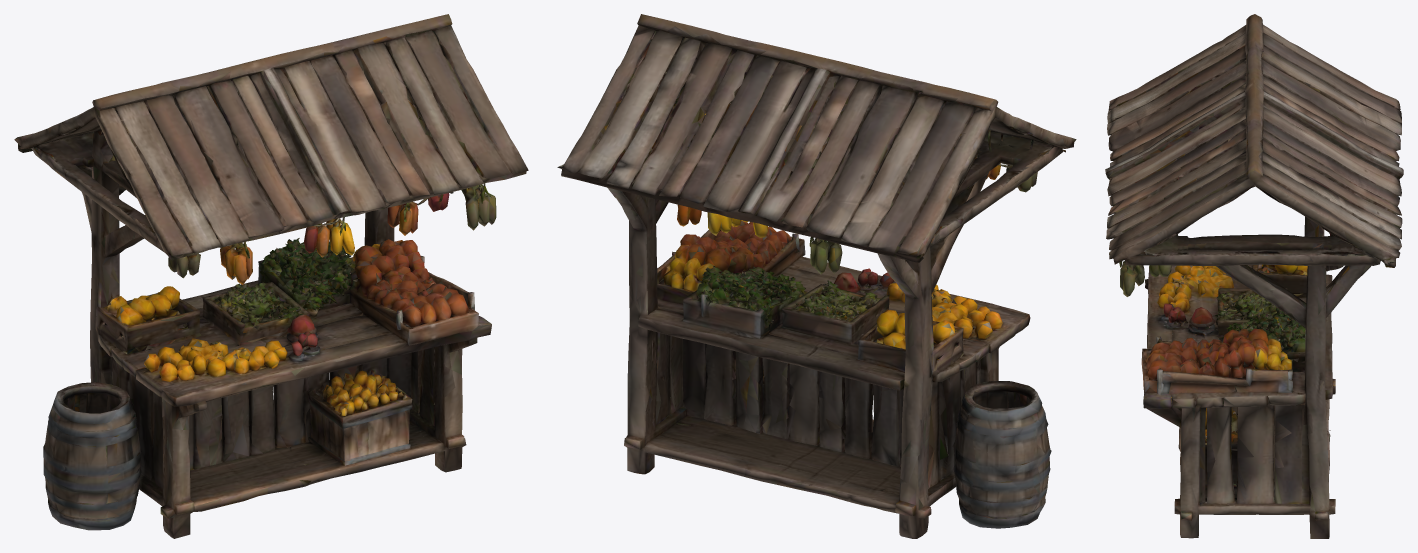
File: Rustic_Market_Stall.glb
The picture shows the model from 3 angles, left to right: view 1: azimuth 30°, elevation 25°; view 2: azimuth 150°, elevation 25°; view 3: azimuth 270°, elevation 25°; orthographic projection. The views are drawn at different scales.
Visible parts, largest first — view 1: Rustic_Market_Stall; view 2: Rustic_Market_Stall; view 3: Rustic_Market_Stall.
Boxes of the visible parts, x1,y1,x2,y2 form: Rustic_Market_Stall: (14,14,528,538); Rustic_Market_Stall: (557,14,1076,538); Rustic_Market_Stall: (1105,14,1403,538).
Size of the model in its own units: 1.92 by 1.9 by 1.35.
1 material, 1 textured.
